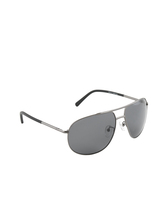glasses: (14, 88, 154, 156)
